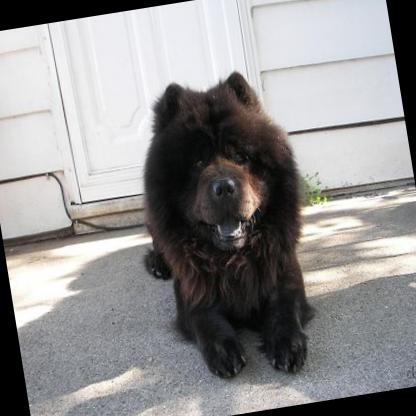chow: (114, 63, 328, 392)
